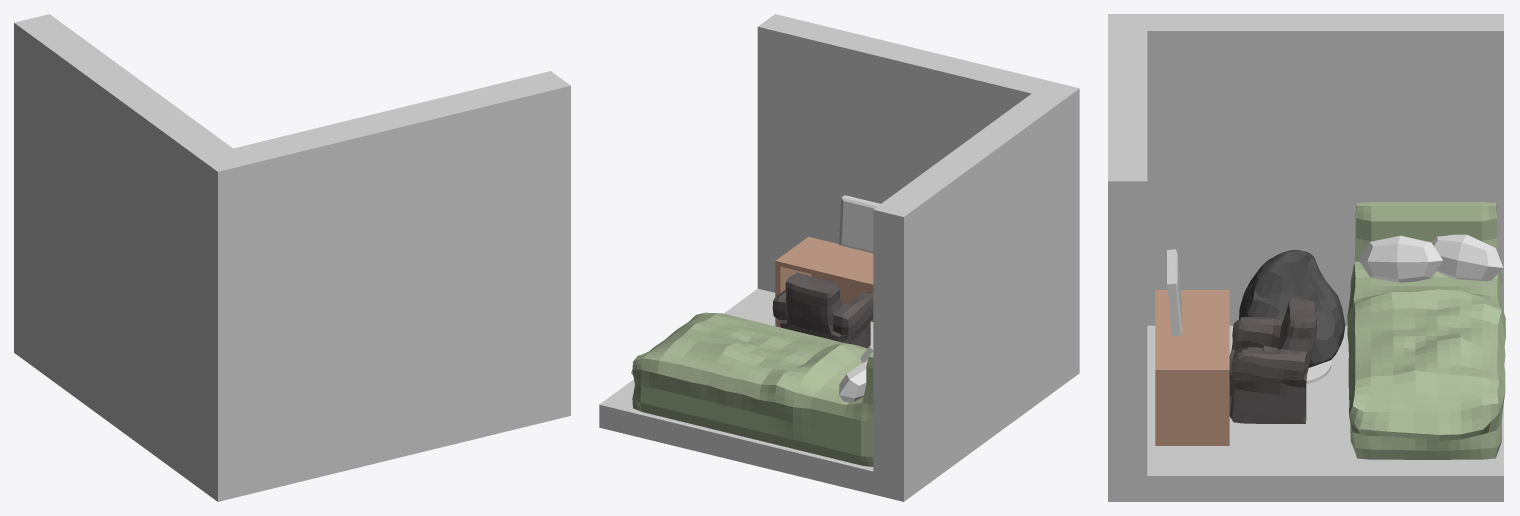
The model's file is room1test.glb.
The picture shows the model from 3 angles, left to right: view 1: azimuth 30°, elevation 25°; view 2: azimuth 150°, elevation 25°; view 3: azimuth 270°, elevation 25°; orthographic projection. The views are drawn at different scales.
Parts seen in each view (by area): view 1: Cube; view 2: Cube, Cube.002, Cube.004, Cube.001, Cube.006, Cube.005; view 3: Cube, Cube.002, Cube.001, Cube.004, Sphere, Cube.003, Cube.005, Cube.006.
Part boxes in pixels (<box>): Cube: <box>14,14,570,501</box>; Cube: <box>599,14,1079,501</box>; Cube.002: <box>631,312,873,466</box>; Cube.004: <box>772,272,873,348</box>; Cube.001: <box>775,236,873,327</box>; Cube.006: <box>839,195,880,253</box>; Cube.005: <box>839,362,867,402</box>; Cube: <box>1108,14,1503,501</box>; Cube.002: <box>1347,202,1505,459</box>; Cube.001: <box>1155,290,1229,445</box>; Cube.004: <box>1229,299,1316,423</box>; Sphere: <box>1239,250,1345,367</box>; Cube.003: <box>1358,235,1442,282</box>; Cube.005: <box>1431,234,1503,281</box>; Cube.006: <box>1167,249,1181,336</box>.
Size of the model in its own units: 10.65 by 9.51 by 10.7.
